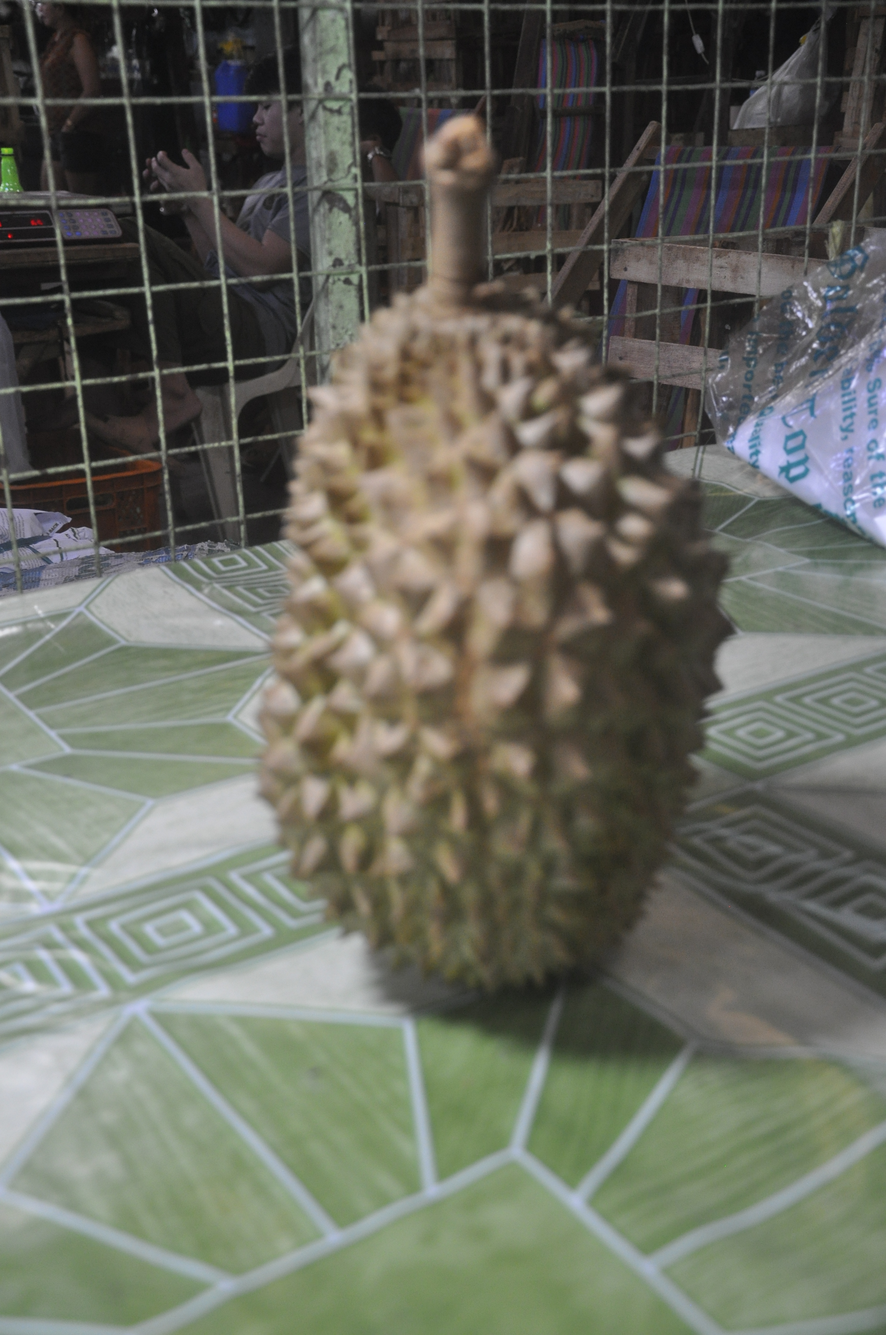mature: (261, 117, 728, 989)
